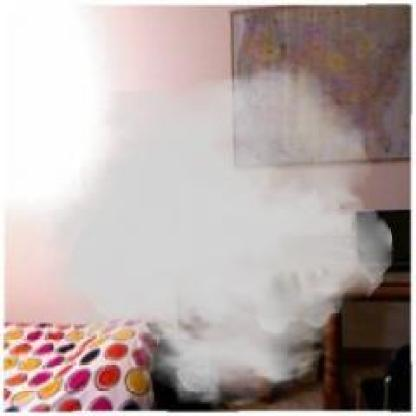Smoke: (33, 59, 393, 411)
